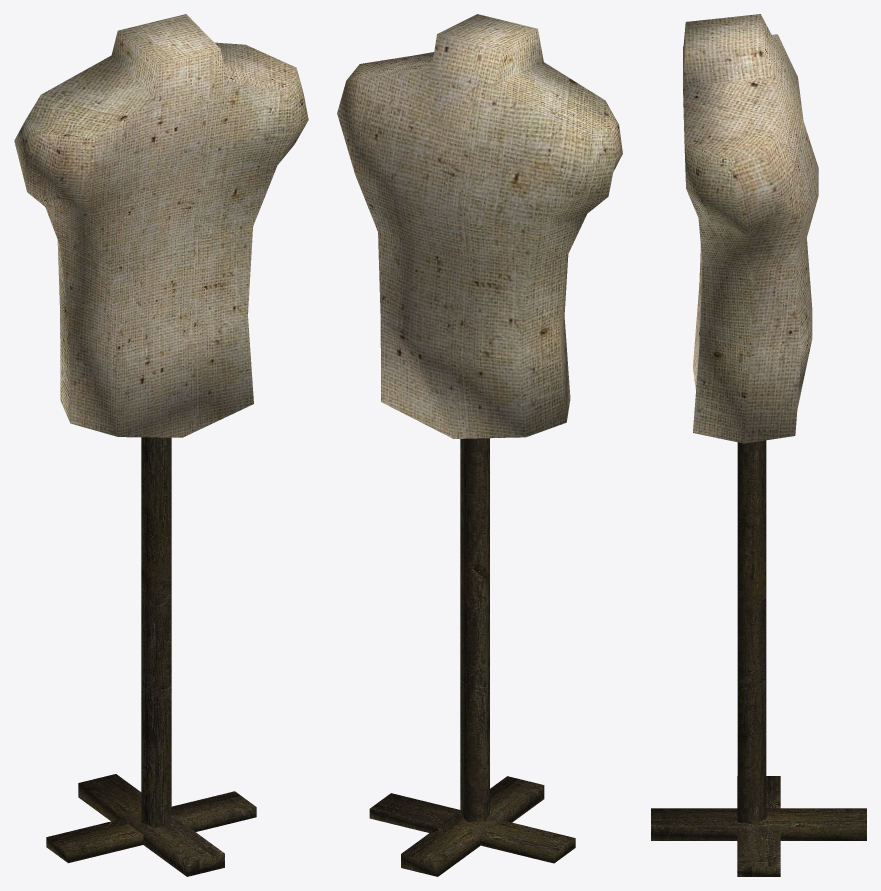
The model's file is KM_VOB_MANNEQUIN.glb.
3 views of the same model, side by side, from view 1: azimuth 30°, elevation 25°; view 2: azimuth 150°, elevation 25°; view 3: azimuth 270°, elevation 25° (orthographic). The views are drawn at different scales.
Parts seen in each view (by area): view 1: Mesh; view 2: Mesh; view 3: Mesh.
Boxes of the visible parts, x1,y1,x2,y2 form: Mesh: [14, 14, 308, 876]; Mesh: [337, 14, 622, 876]; Mesh: [651, 14, 866, 876].
Size of the model in its own units: 0.5758 by 1.61 by 0.3922.
2 materials, 2 textured.
